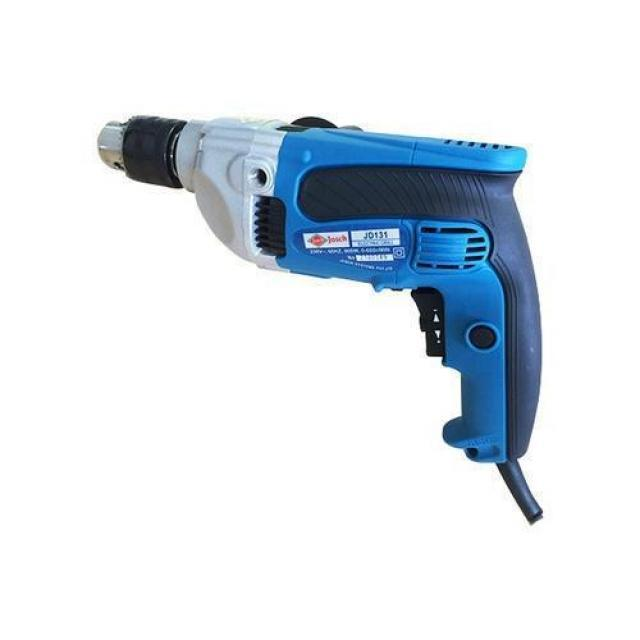drill: (95, 114, 542, 525)
